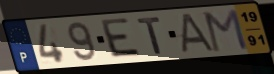4: (37, 22, 66, 65)
9: (64, 20, 99, 62)
A: (178, 12, 218, 55)
E: (99, 16, 144, 59)
M: (202, 7, 250, 53)
T: (136, 16, 165, 56)
